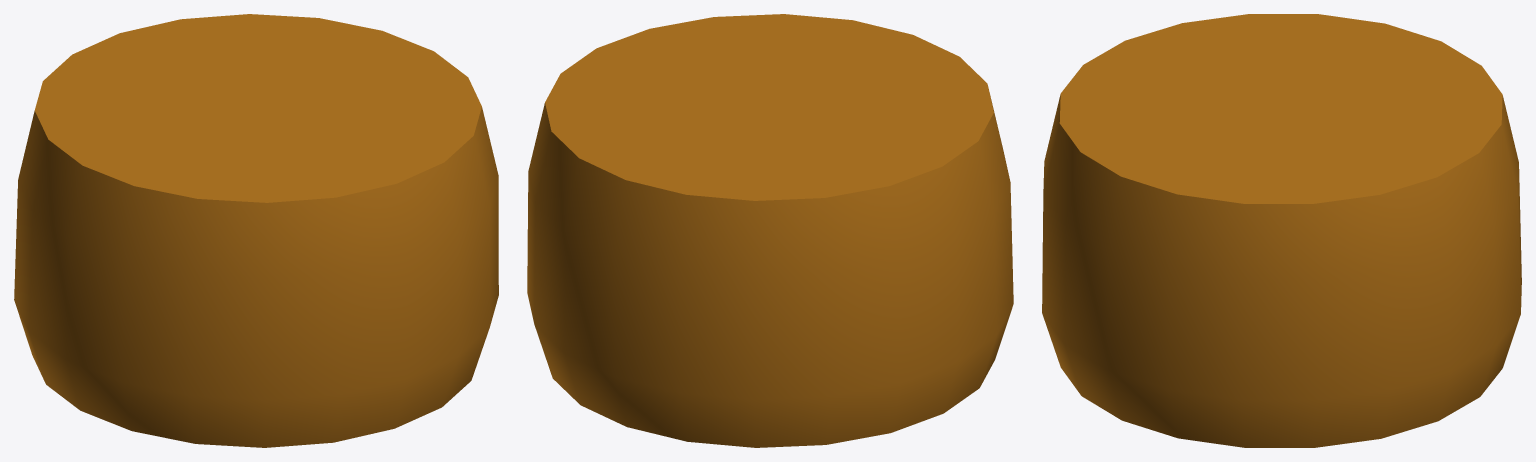
Rendered from Blocker_Edge_Ring_B.fbx.
3 renders of one model, left to right at view 1: azimuth 30°, elevation 25°; view 2: azimuth 150°, elevation 25°; view 3: azimuth 270°, elevation 25°, orthographic.
Visible parts, largest first — view 1: Blocker_Edge_Ring_B; view 2: Blocker_Edge_Ring_B; view 3: Blocker_Edge_Ring_B.
Boxes of the visible parts, left/top/right/bottom form: Blocker_Edge_Ring_B: left=14, top=14, right=498, bottom=447; Blocker_Edge_Ring_B: left=527, top=14, right=1013, bottom=447; Blocker_Edge_Ring_B: left=1042, top=14, right=1521, bottom=447.
Bounding box in the file's own units: 1.16 × 0.66 × 1.16.
